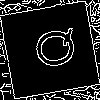Q: (24, 25, 80, 73)
